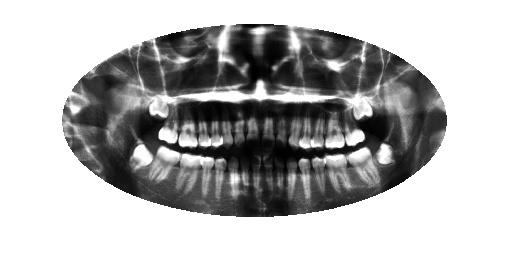i10decay: (238, 154, 251, 209)
i11healthy: (229, 153, 241, 209)
i12healthy: (211, 156, 228, 202)
i13healthy: (196, 156, 215, 204)
i14healthy: (173, 150, 204, 201)
i15healthy: (147, 144, 184, 187)
i16healthy: (122, 139, 159, 177)
i1healthy: (370, 136, 397, 172)
i2healthy: (342, 141, 382, 191)
i3healthy: (323, 152, 351, 193)
i4healthy: (307, 152, 332, 200)
i5healthy: (293, 154, 315, 204)
i6healthy: (284, 153, 300, 203)
i7decay: (272, 151, 285, 203)
i8decay: (260, 154, 274, 204)
i9decay: (248, 153, 264, 210)
u10decay: (232, 108, 246, 157)
u11healthy: (216, 113, 236, 154)
u12healthy: (208, 115, 225, 157)
u13healthy: (191, 105, 212, 152)
u14healthy: (172, 107, 200, 154)
u15healthy: (155, 102, 185, 148)
u16healthy: (145, 84, 171, 127)
u1healthy: (348, 88, 374, 128)
u2healthy: (336, 103, 367, 150)
u3healthy: (320, 103, 348, 154)
u4healthy: (306, 106, 329, 150)
u5healthy: (296, 107, 314, 154)
u6healthy: (286, 111, 304, 154)
u7decay: (270, 114, 289, 154)
u8decay: (255, 108, 277, 156)
u9decay: (243, 109, 262, 157)
